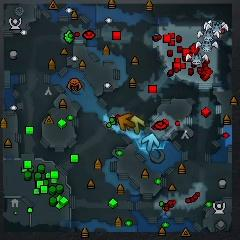x2: (128, 115, 146, 134)
x3: (142, 133, 159, 152)
x5: (117, 113, 135, 131)
